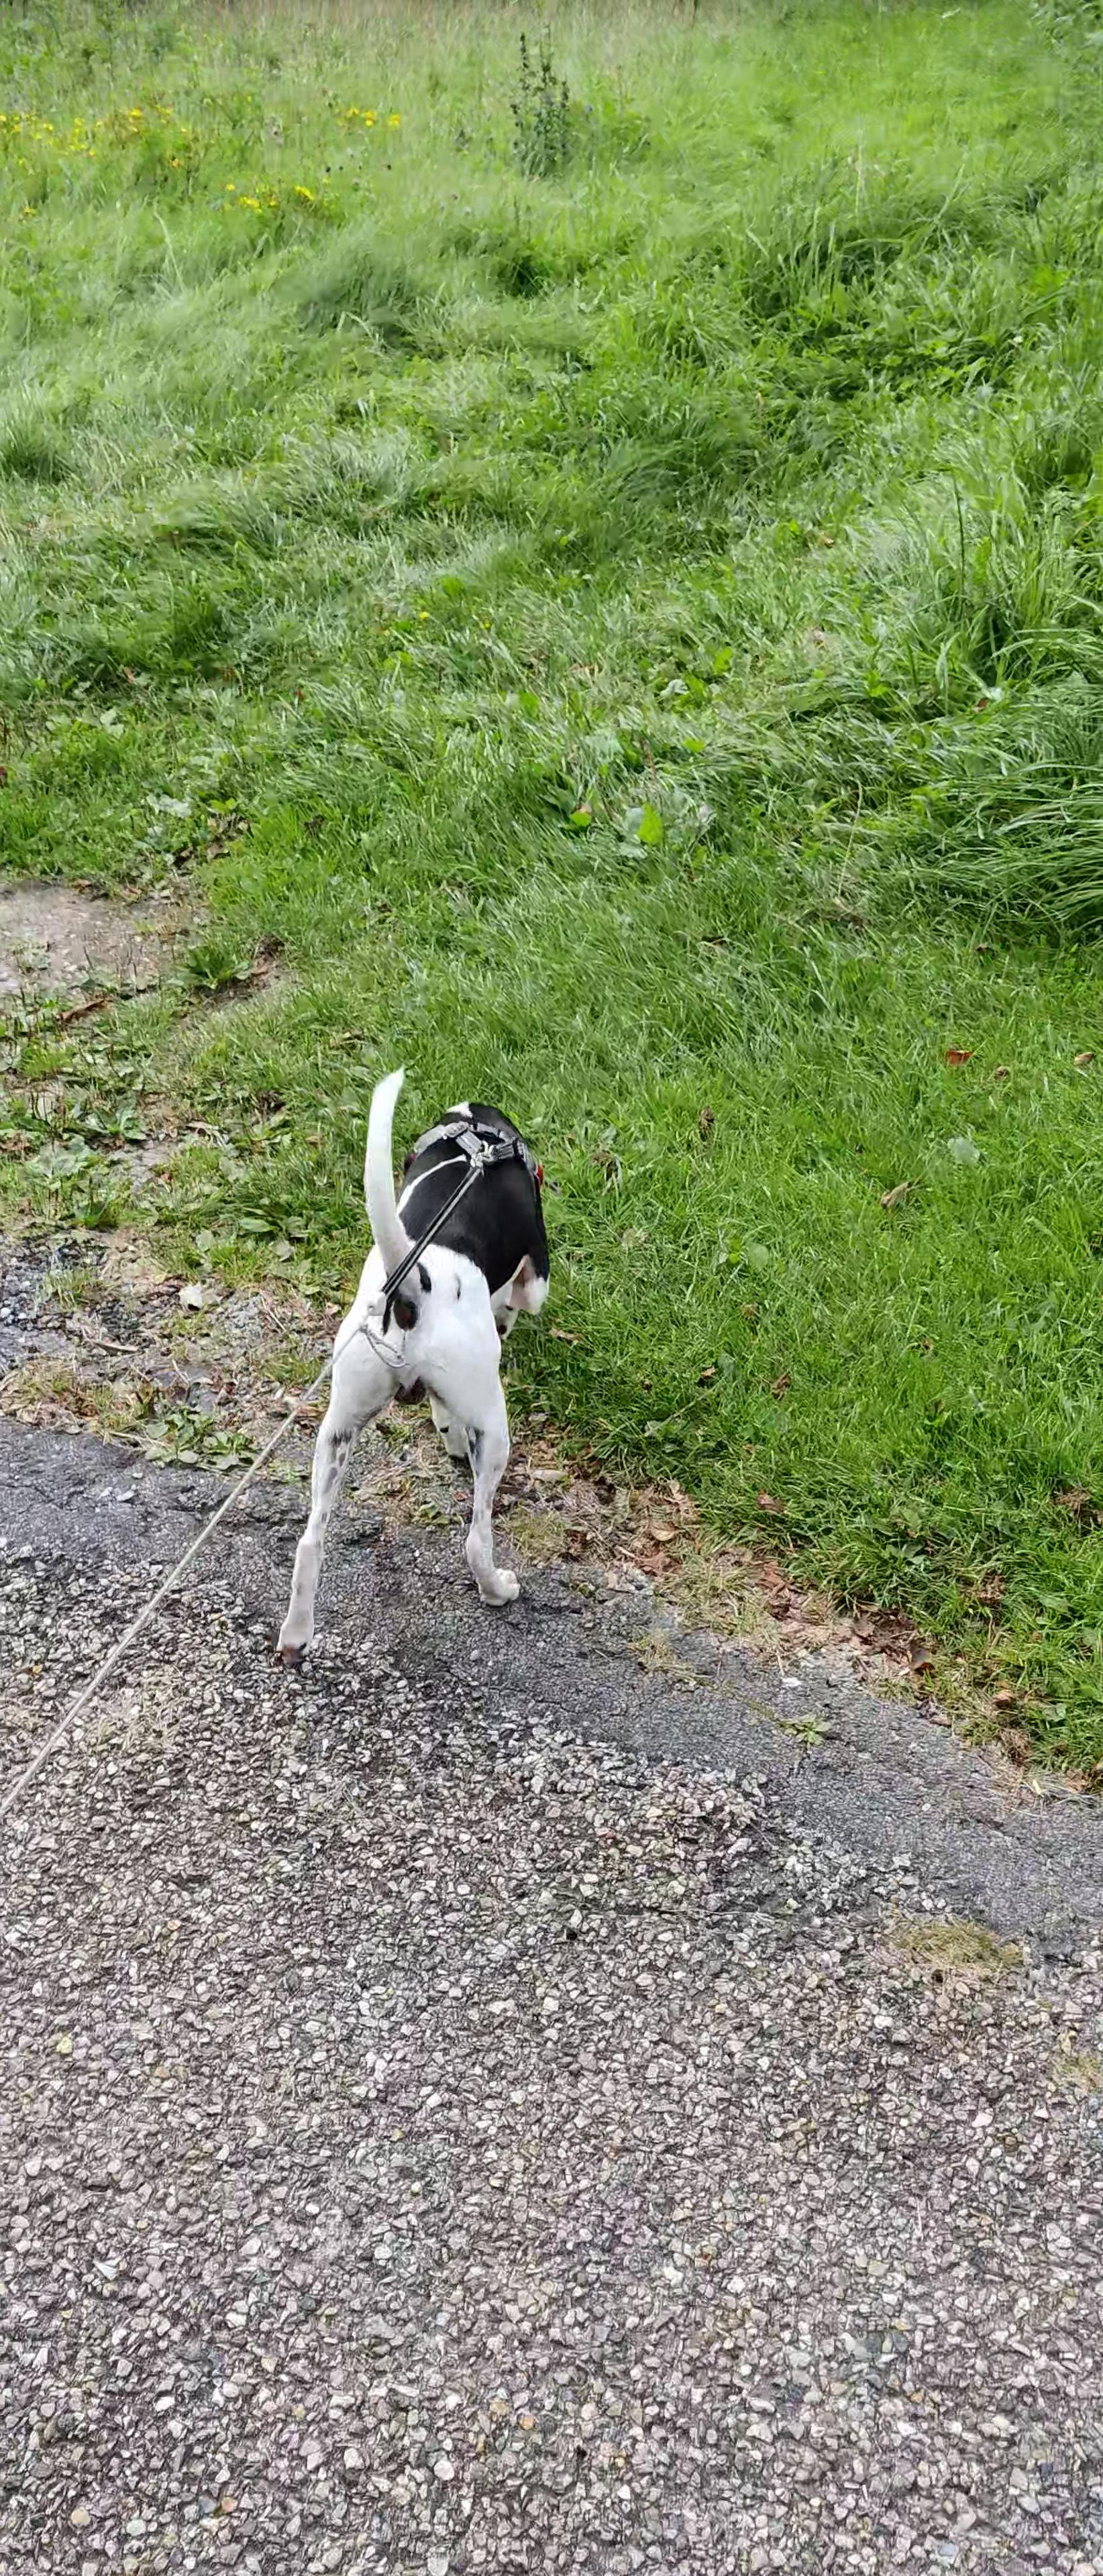Dog: (205, 1040, 628, 1672)
